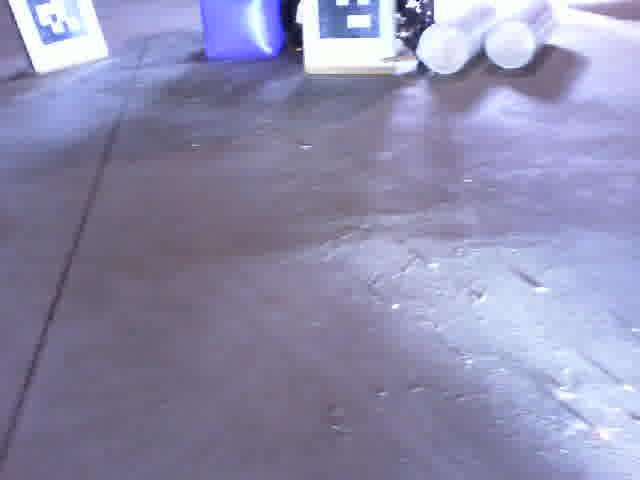coral: (416, 0, 501, 77), (485, 0, 560, 73)
